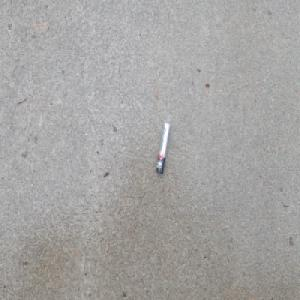Battery: (155, 121, 170, 175)
